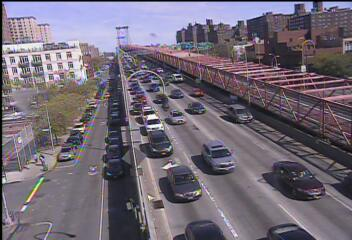neg: (294, 101, 338, 159), (239, 114, 276, 164), (87, 133, 121, 178), (119, 146, 147, 184), (43, 189, 71, 225), (184, 120, 209, 154), (291, 23, 316, 56), (13, 184, 38, 217), (166, 183, 190, 215), (249, 44, 271, 75), (120, 17, 143, 46), (81, 4, 103, 33), (57, 71, 76, 96), (68, 159, 87, 184), (195, 22, 213, 46), (51, 41, 66, 61), (67, 111, 80, 128)
pos: (35, 151, 45, 166), (30, 151, 39, 164)
